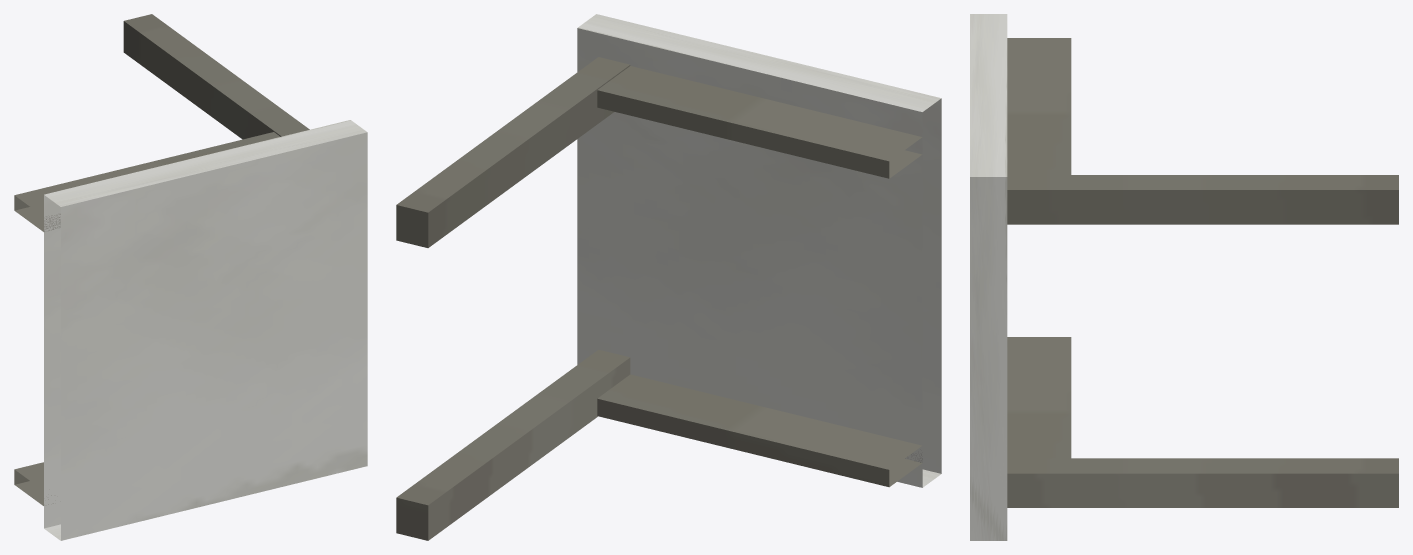
The model's file is pz_table_tables_high_01_large_white_v2_1_0.obj.
3 views of the same model, side by side, from view 1: azimuth 30°, elevation 25°; view 2: azimuth 150°, elevation 25°; view 3: azimuth 270°, elevation 25° (orthographic). The views are drawn at different scales.
Size of the model in its own units: 0.7812 by 0.8125 by 0.8675.
1 material, 1 textured.
